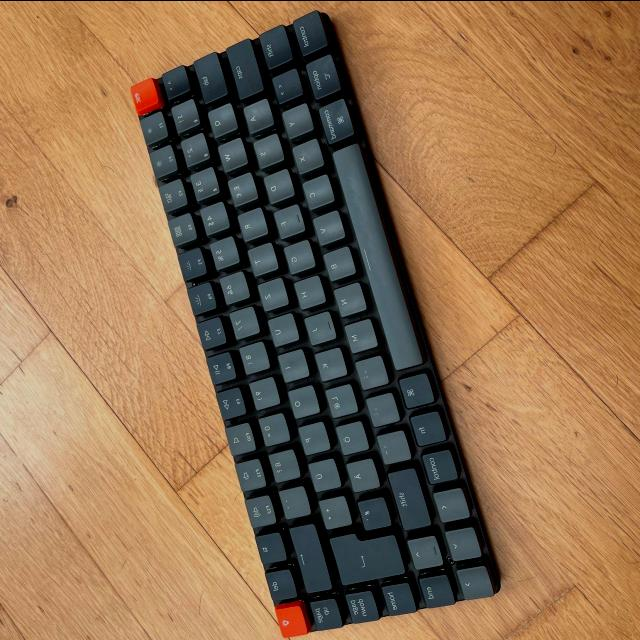0: (256, 410, 290, 445)
1: (170, 97, 200, 133)
2: (179, 131, 209, 167)
3: (189, 165, 219, 201)
4: (198, 199, 229, 235)
5: (208, 235, 239, 269)
6: (218, 269, 250, 304)
7: (227, 304, 259, 338)
8: (239, 340, 271, 374)
9: (248, 374, 280, 408)
a: (241, 97, 274, 133)
accent: (277, 483, 311, 518)
ae: (344, 455, 380, 491)
alt-left: (305, 52, 343, 100)
b: (321, 243, 355, 280)
c: (300, 172, 334, 210)
caret: (160, 63, 189, 99)
comma: (352, 353, 388, 389)
d: (262, 166, 295, 203)
del: (287, 520, 331, 592)
e: (226, 170, 258, 206)
enter: (327, 531, 405, 583)
f: (272, 202, 306, 238)
g: (283, 237, 316, 273)
h: (293, 273, 326, 309)
hash: (356, 494, 391, 530)
i: (276, 346, 308, 381)
j: (302, 308, 337, 344)
k: (313, 344, 347, 380)
keyboard: (125, 5, 507, 640)
l: (324, 381, 358, 417)
less: (270, 65, 302, 104)
m: (342, 316, 377, 352)
minus: (375, 427, 411, 463)
n: (332, 280, 366, 316)
o: (286, 382, 319, 418)
oe: (335, 417, 369, 455)
p: (297, 418, 330, 454)
plus: (317, 493, 351, 529)
point: (363, 390, 399, 426)
q: (205, 100, 237, 137)
r: (236, 205, 268, 241)
s: (252, 131, 285, 167)
shift-left: (257, 22, 293, 68)
shift-lock: (226, 36, 264, 98)
shift-right: (384, 465, 431, 529)
space: (329, 138, 424, 370)
ss: (266, 446, 300, 482)
strg-left: (291, 8, 329, 56)
strg-right: (419, 447, 457, 485)
t: (246, 240, 278, 276)
tab: (192, 50, 228, 103)
u: (266, 310, 299, 346)
ue: (307, 455, 341, 491)
v: (311, 208, 345, 244)
w: (215, 135, 247, 171)
x: (290, 136, 324, 173)
y: (280, 101, 313, 139)
z: (256, 275, 288, 311)
